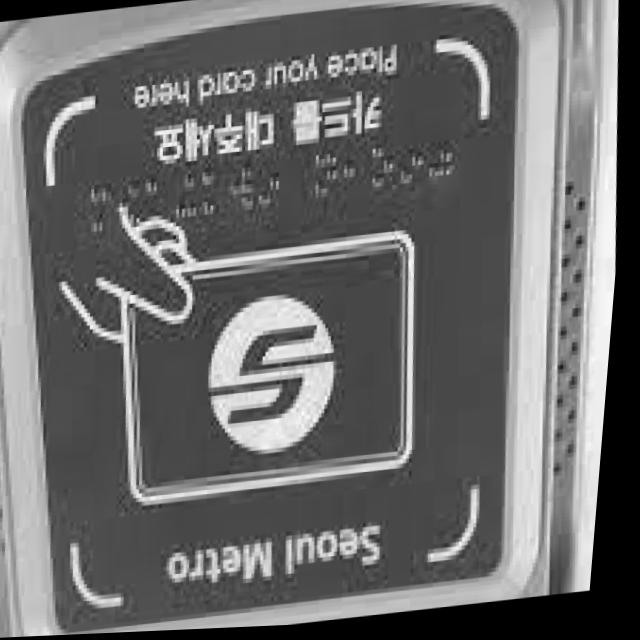braiile: (399, 134, 431, 191), (427, 132, 460, 187), (89, 182, 121, 238), (343, 144, 374, 198), (228, 163, 260, 214), (371, 143, 401, 196), (173, 170, 204, 221), (314, 152, 344, 203), (258, 159, 286, 209), (203, 168, 231, 217)
